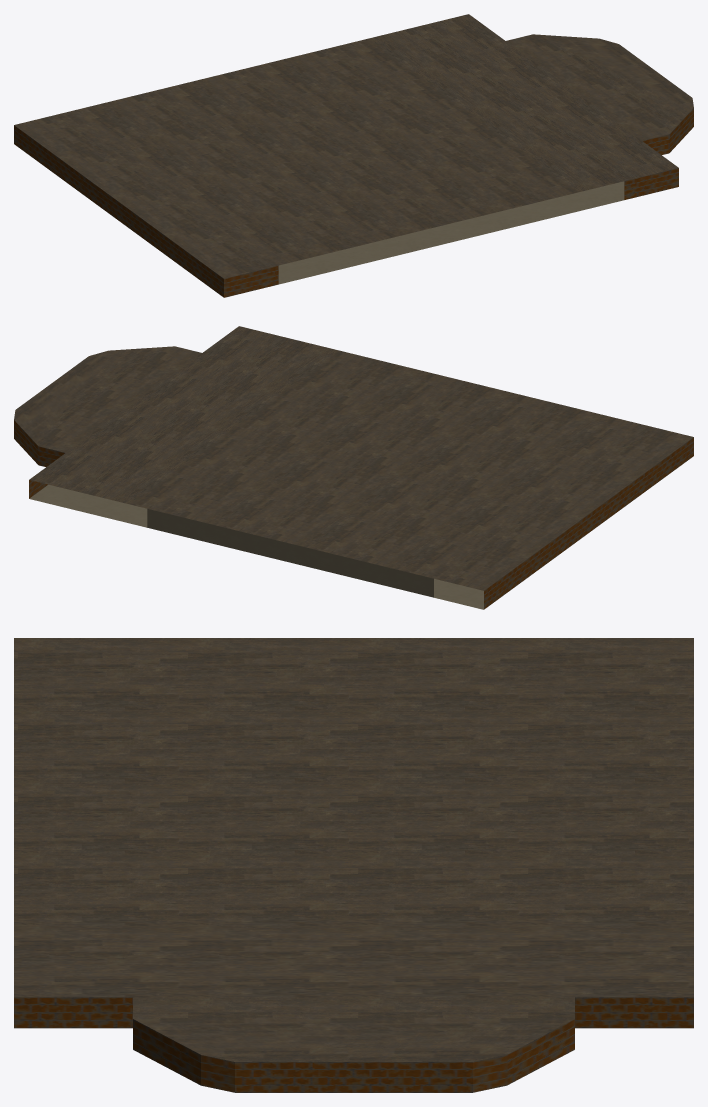
File: Mesh_Floor_Bedroom_01.gltf
The picture shows the model from 3 angles, top to bottom: view 1: azimuth 30°, elevation 25°; view 2: azimuth 150°, elevation 25°; view 3: azimuth 270°, elevation 25°; orthographic projection. The views are drawn at different scales.
Visible parts, largest first — view 1: Mesh_Floor_Bedroom_01; view 2: Mesh_Floor_Bedroom_01; view 3: Mesh_Floor_Bedroom_01.
Part boxes in pixels (box(x1,y1,x2,y2)): Mesh_Floor_Bedroom_01: box(14, 14, 693, 297); Mesh_Floor_Bedroom_01: box(14, 326, 693, 609); Mesh_Floor_Bedroom_01: box(14, 638, 693, 1092).
Bounding box in the file's own units: 11.8 × 0.4 × 8.
Materials: 5 (5 with a texture image).
